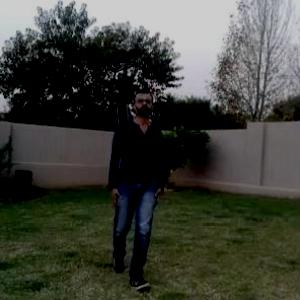follow: (106, 77, 168, 283)
